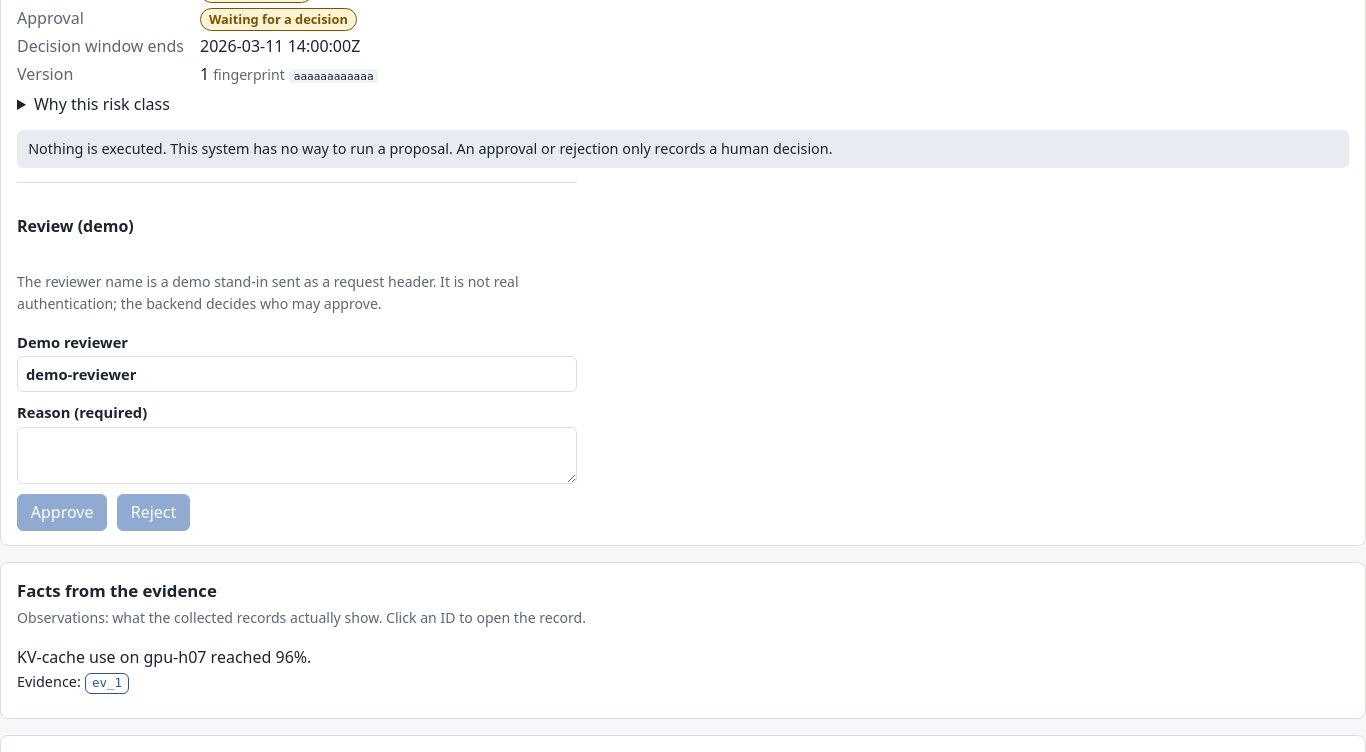
Test: RunPage: proposal and approval › shows the backend refusing an unauthorised reviewer and does not pretend it worked
The image size is (1366, 752).
(page scrolled)
Replace the text in the field labelled "Demo reviewer" with "mallory" at (297, 374), box [17,356,577,392]
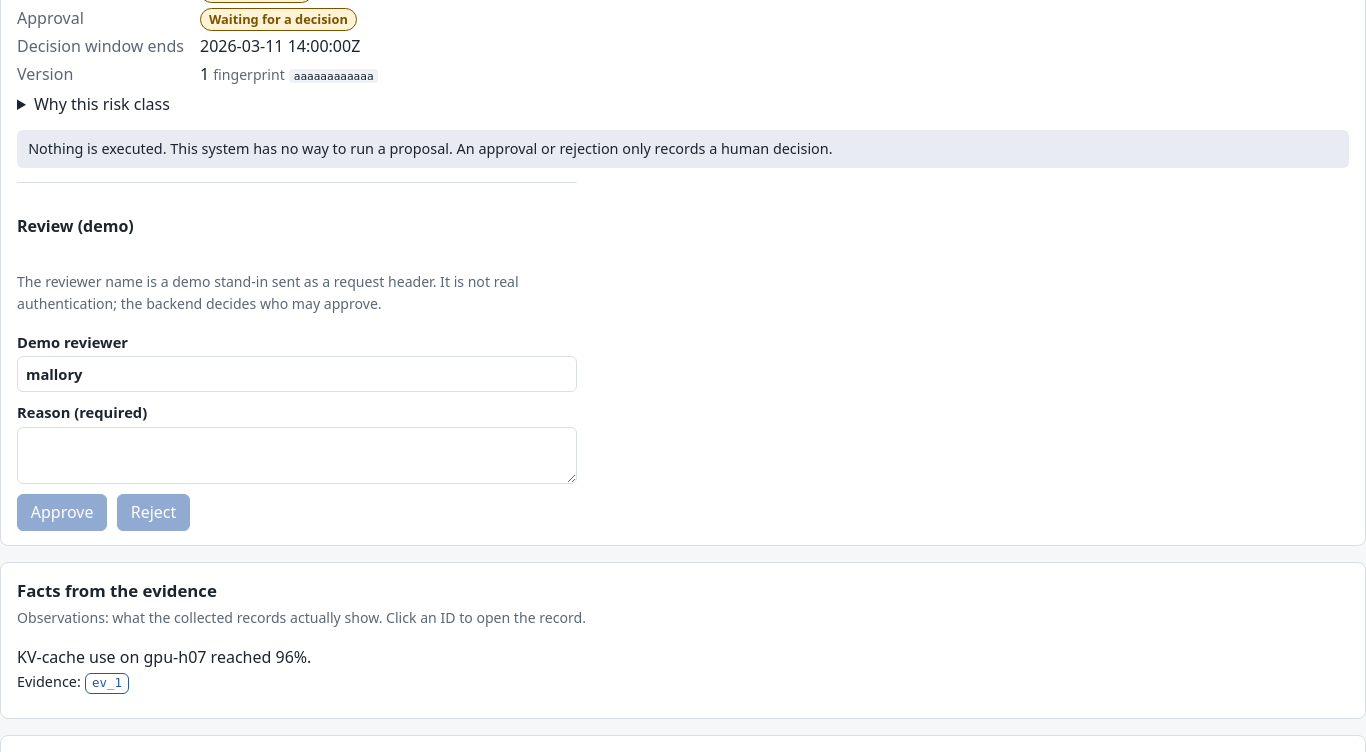
Type "let me in" into the text box labelled "Reason (required)" at (297, 455), box [17,427,577,484]
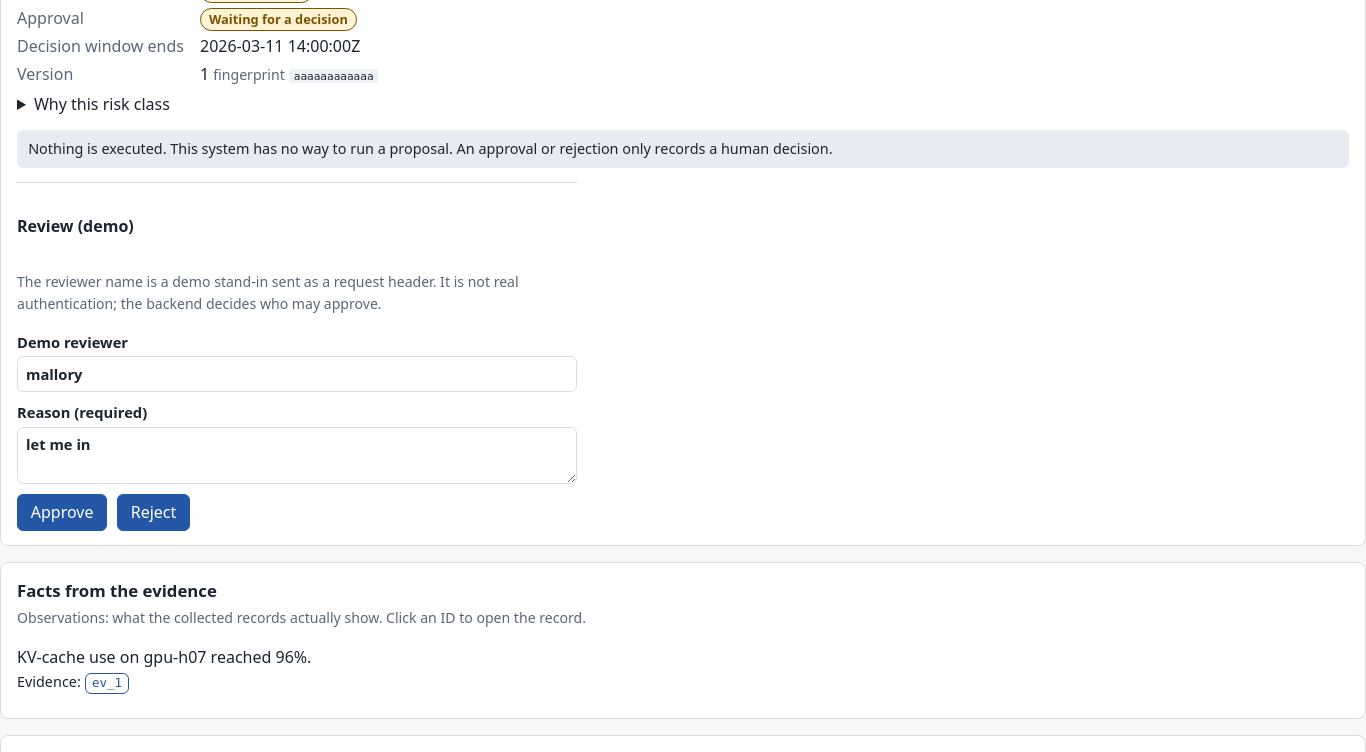
Click the button "Approve" at (62, 512), box [17,494,107,531]
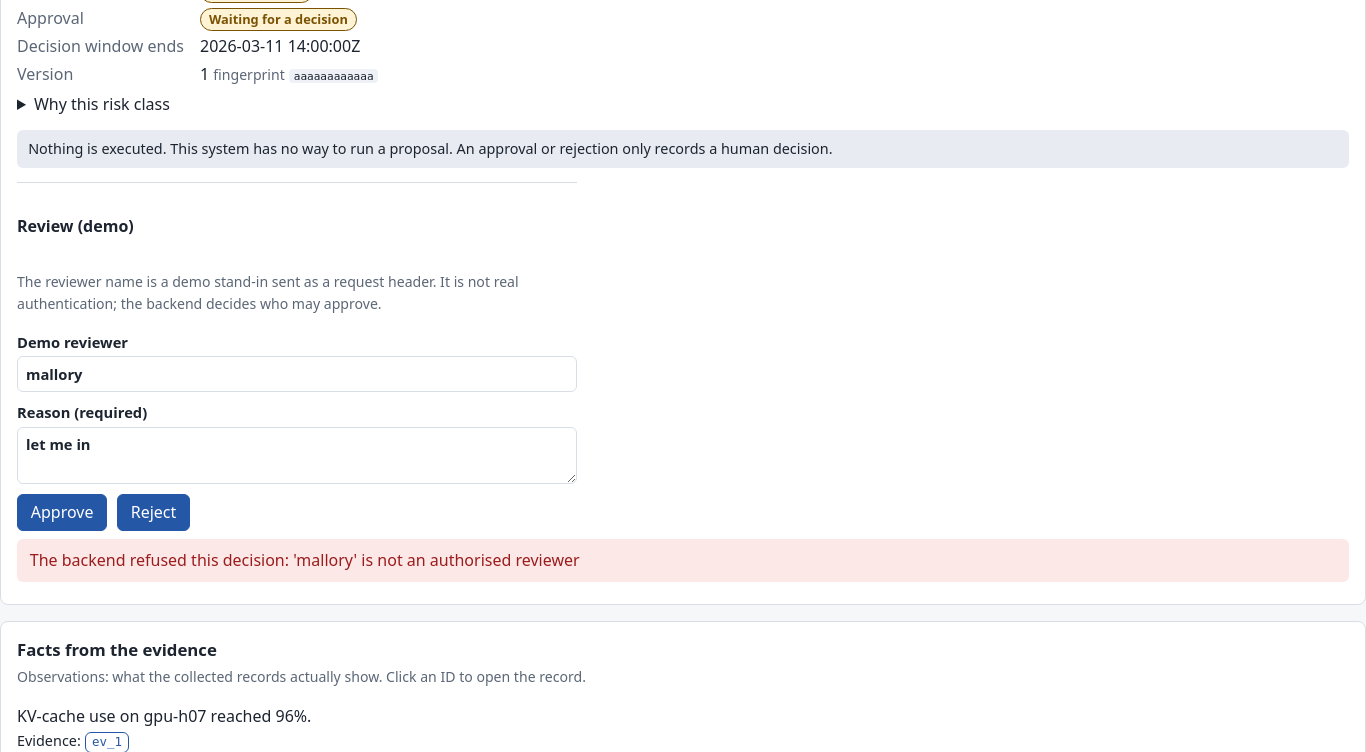
Expected: the text "Waiting for a decision" is shown, [200,8,357,31]
Result: the text "The backend refused this decision: 'mallory' is not an authorised reviewer" is shown at [17,539,1349,582]
